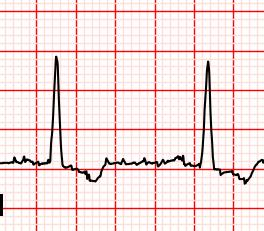T inversion: (226, 157, 264, 187), (79, 155, 113, 187)
